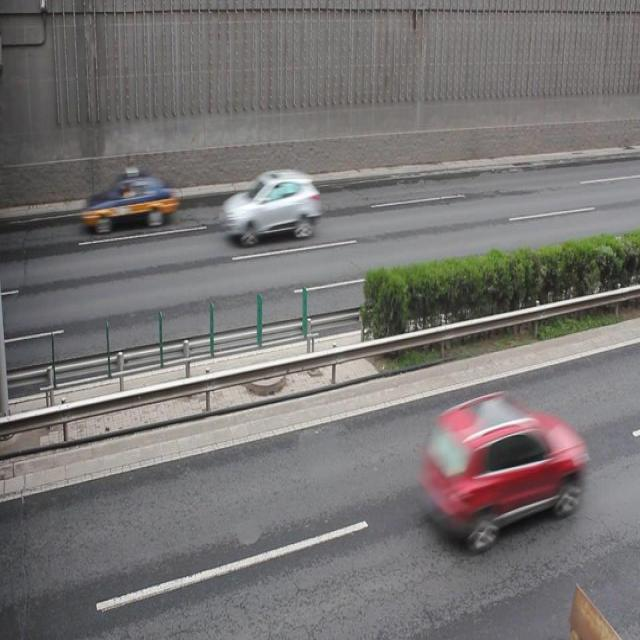car: (425, 390, 580, 544), (223, 168, 319, 241), (82, 170, 177, 231)
